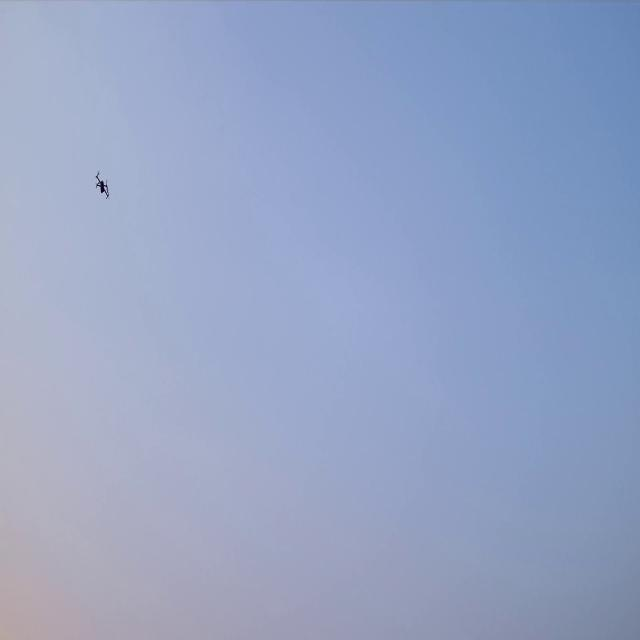UAV: (92, 169, 110, 200)
